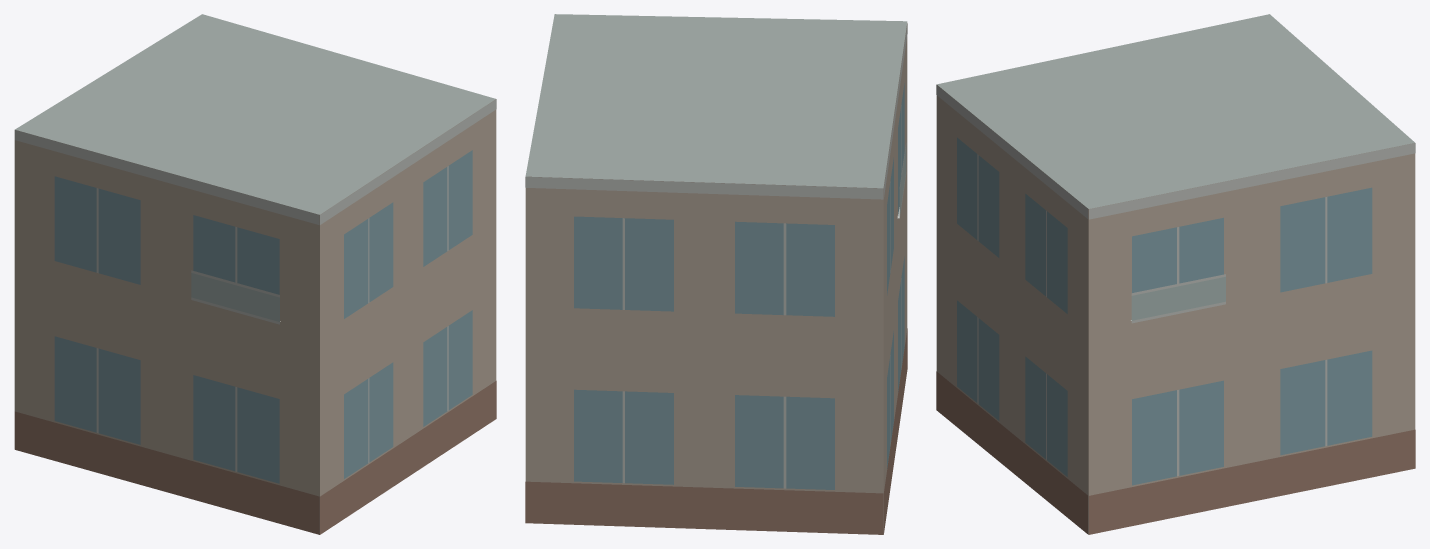
Rendered from survey-upis-32597227.glb.
3 views of the same model, side by side, from view 1: azimuth 30°, elevation 25°; view 2: azimuth 150°, elevation 25°; view 3: azimuth 270°, elevation 25° (orthographic). The views are drawn at different scales.
Visible parts, largest first — view 1: survey-upis-32597227.tmp; view 2: survey-upis-32597227.tmp; view 3: survey-upis-32597227.tmp.
Part boxes in pixels (<box>): survey-upis-32597227.tmp: <box>14,14,496,534</box>; survey-upis-32597227.tmp: <box>525,14,907,534</box>; survey-upis-32597227.tmp: <box>936,14,1415,534</box>.
Bounding box in the file's own units: 9.64 × 7.5 × 10.
